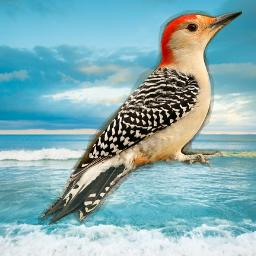Woodpecker: (38, 10, 242, 228)
